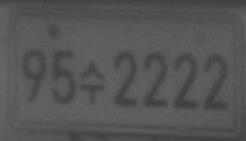2: (173, 52, 200, 108), (203, 52, 229, 110), (112, 50, 139, 105), (143, 51, 169, 106)
5: (51, 49, 75, 104)
9: (21, 48, 47, 104)
수: (79, 58, 106, 103)
